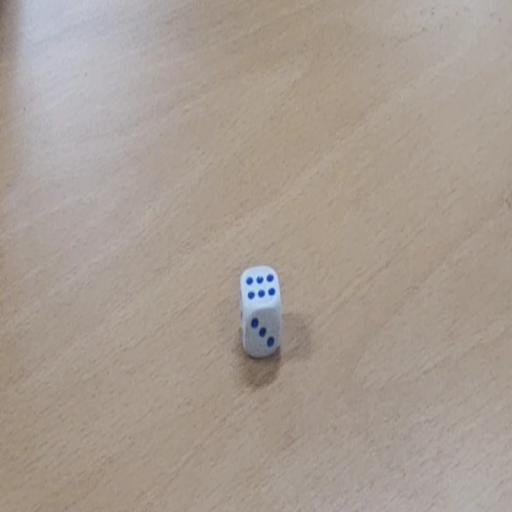dice_6: (240, 263, 286, 361)
